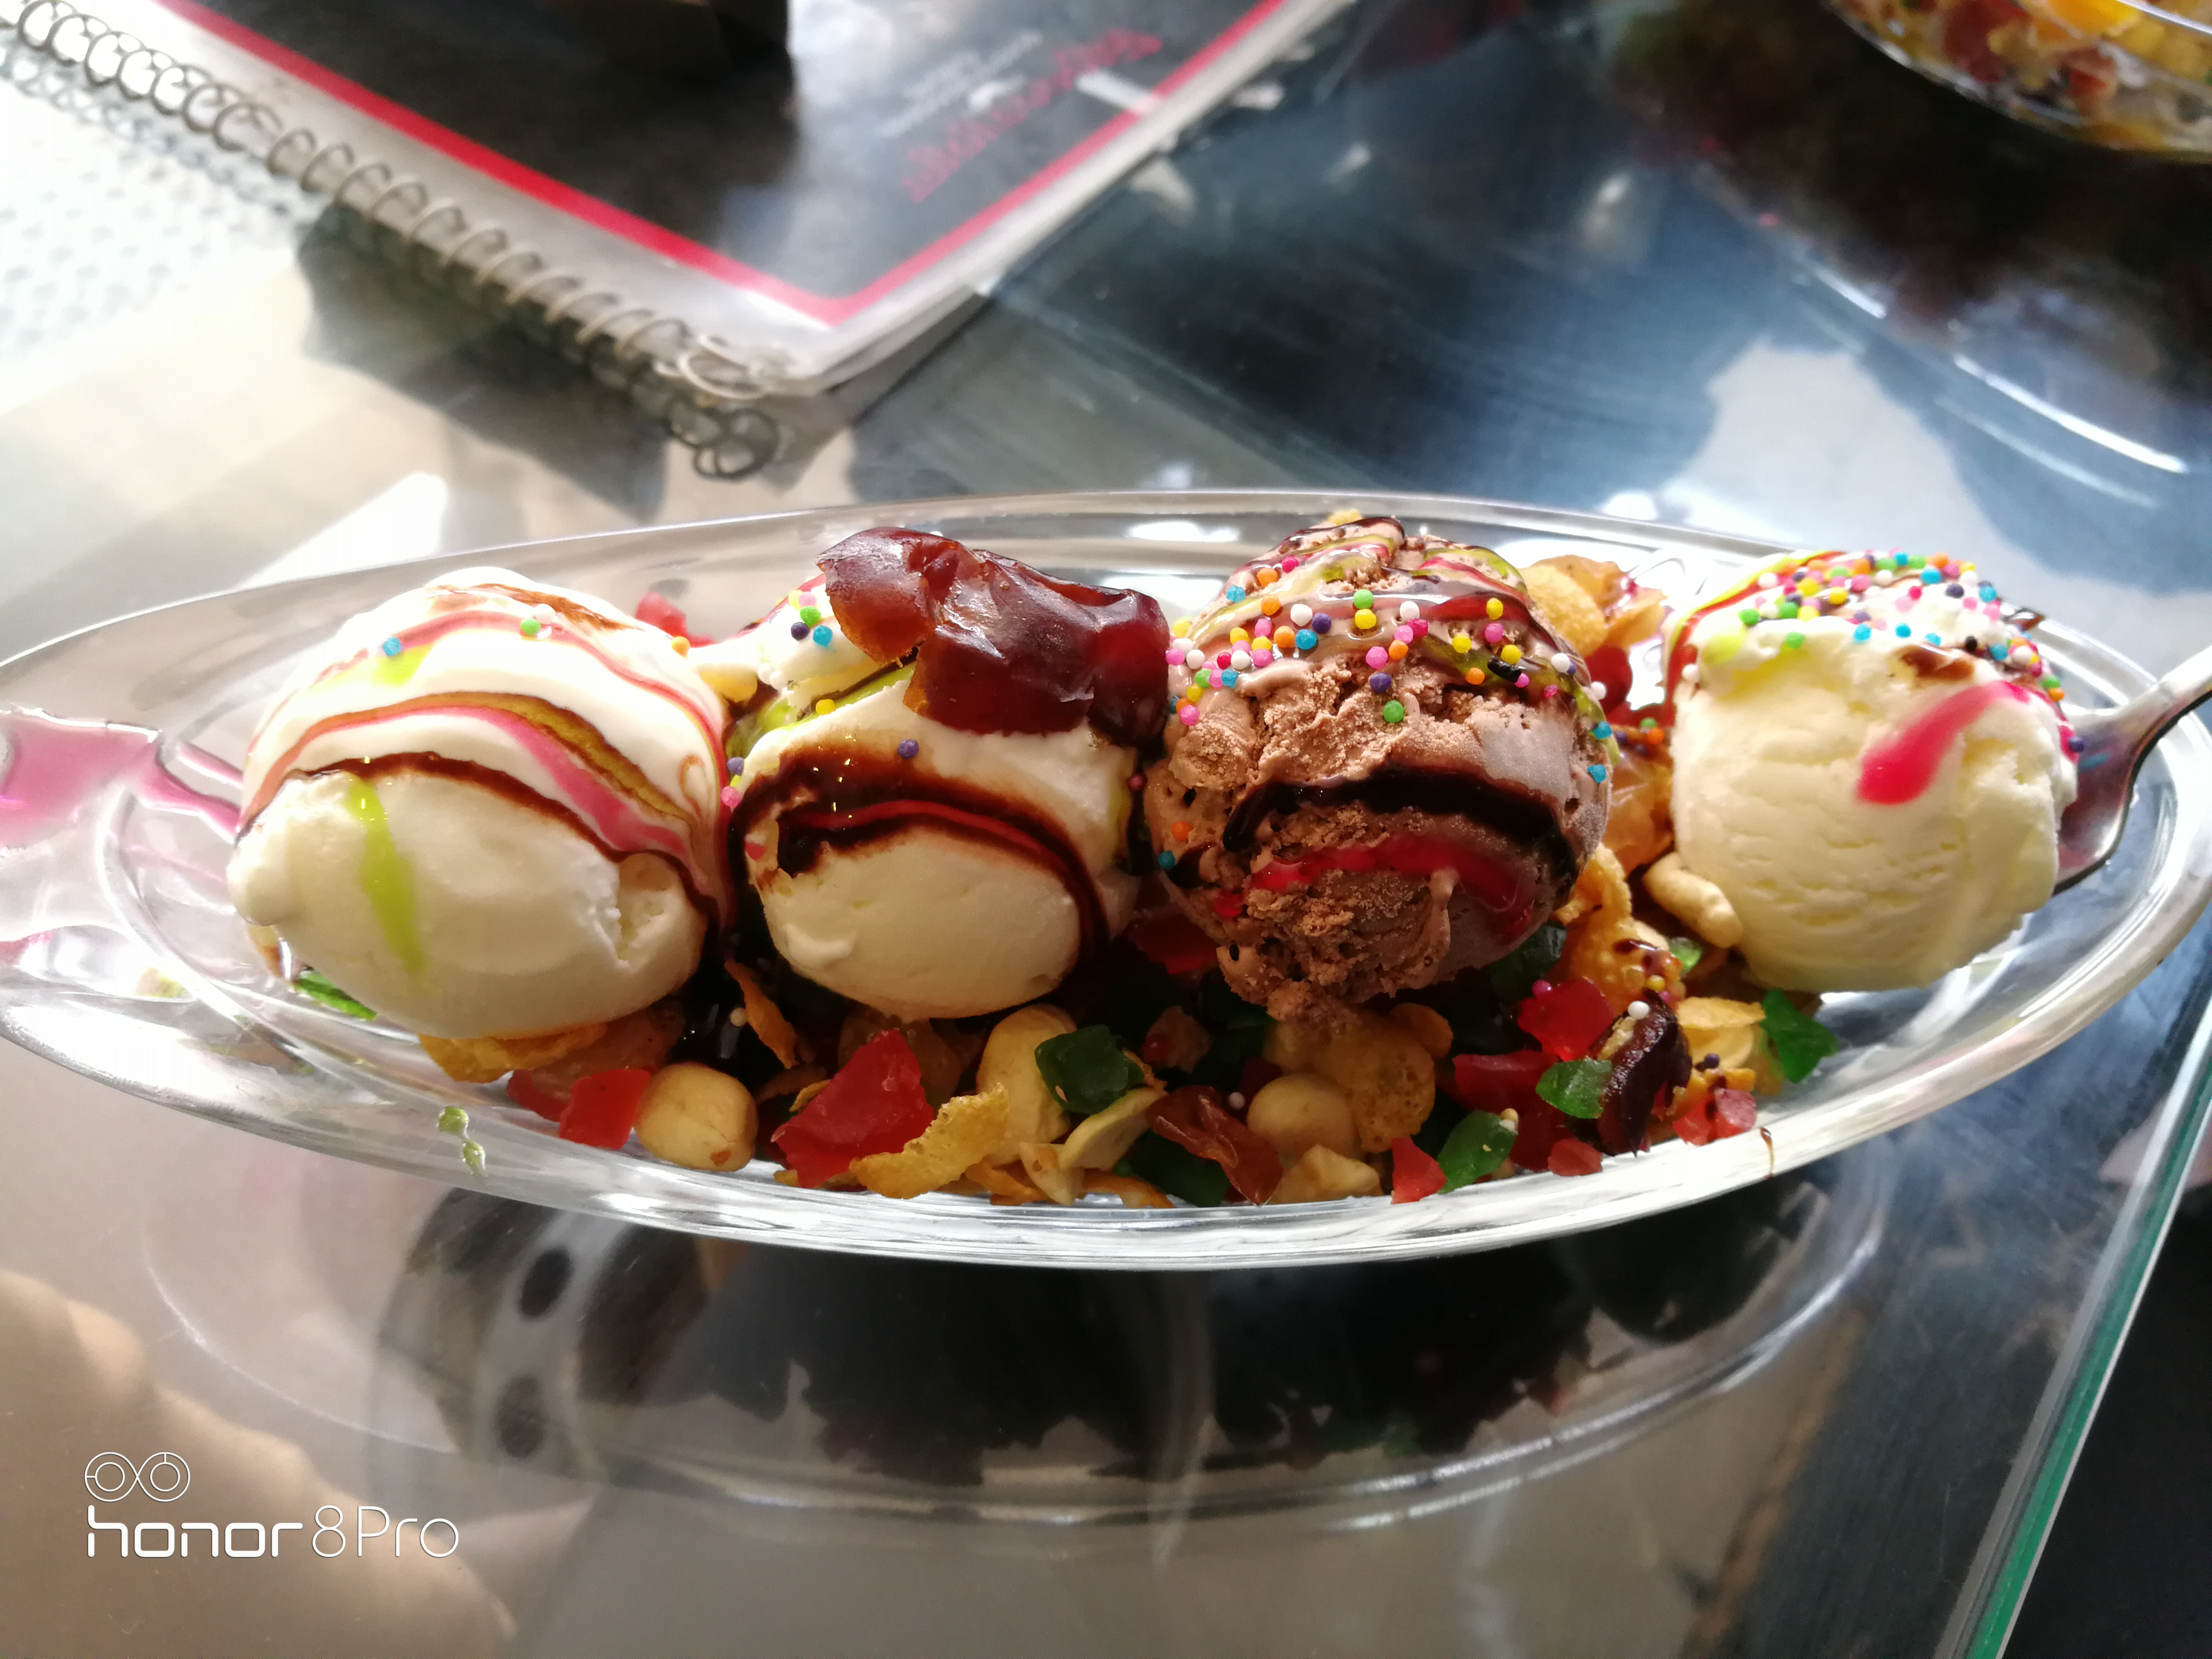food: (214, 516, 2087, 1218)
